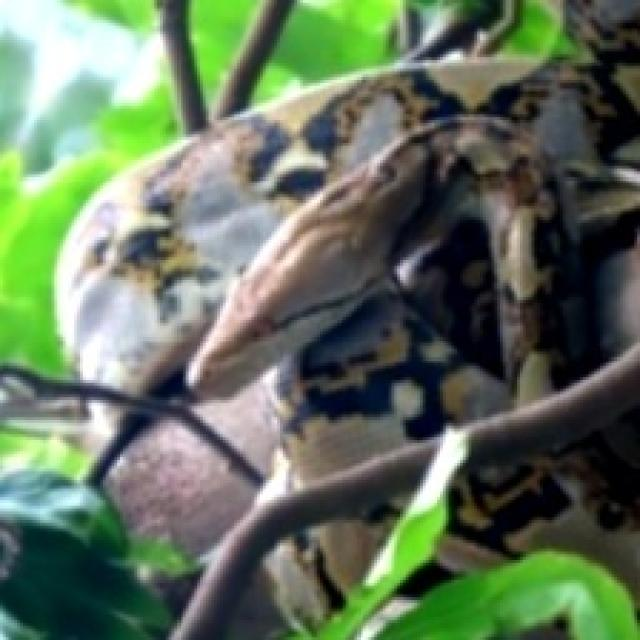reticulated python: (57, 0, 637, 491), (266, 386, 637, 637), (111, 423, 251, 551)
